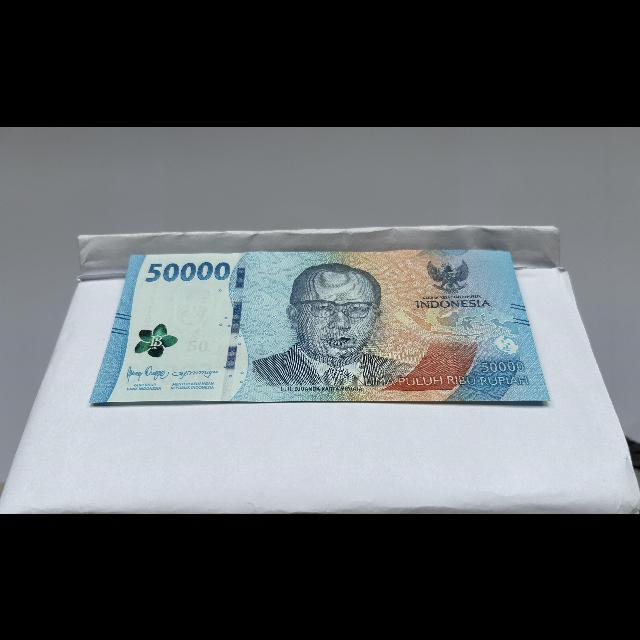Asli-50k: (85, 245, 554, 406)
Tinta-Asli-50k: (128, 315, 186, 362)
